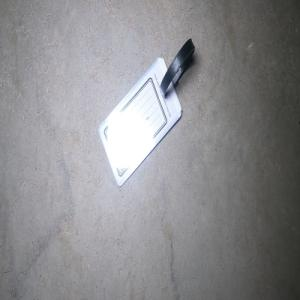LuggageTag: (96, 36, 196, 189)
